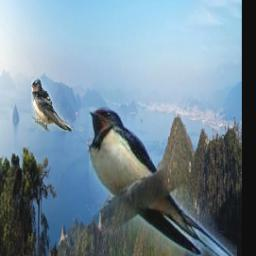Swallow: (88, 107, 236, 256), (30, 78, 82, 131)
